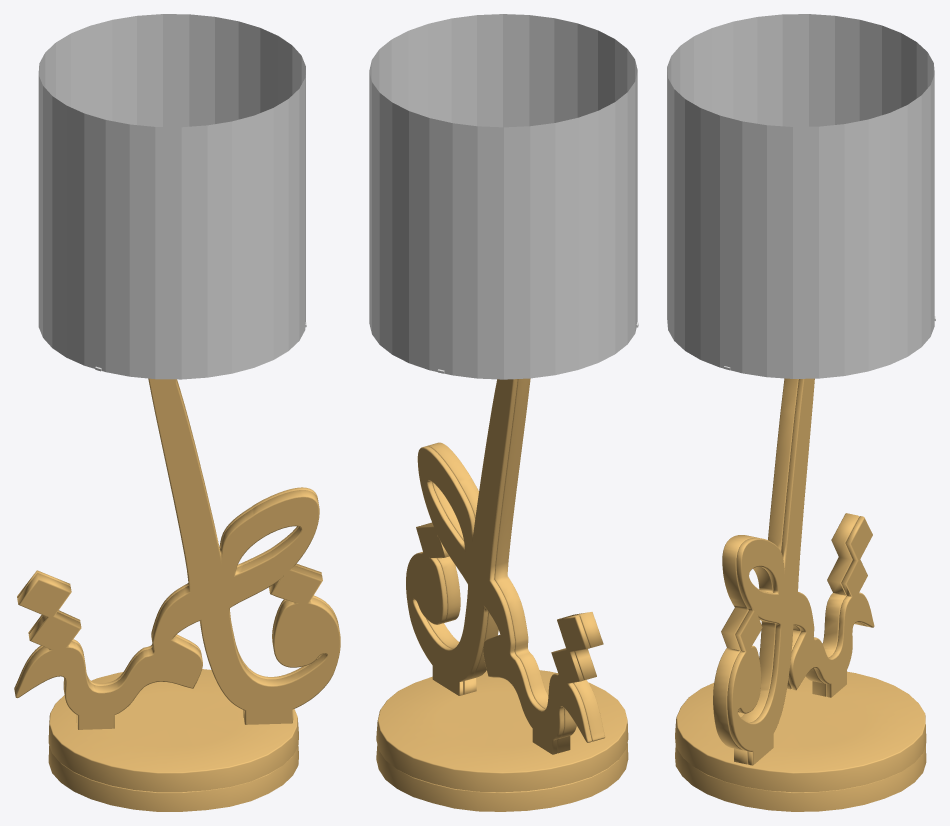
File: FatmaLamp.fbx
3 renders of one model, left to right at view 1: azimuth 30°, elevation 25°; view 2: azimuth 150°, elevation 25°; view 3: azimuth 270°, elevation 25°, orthographic.
Parts seen in each view (by area): view 1: Inside Cover Lamp, Fatma Thick, Base, Fatma Slim; view 2: Inside Cover Lamp, Base, Fatma Slim, Fatma Thick; view 3: Inside Cover Lamp, Base, Fatma Slim, Fatma Thick.
Part boxes in pixels (left/top/right/bottom): Inside Cover Lamp: left=38, top=14, right=305, bottom=379; Fatma Thick: left=14, top=378, right=340, bottom=729; Base: left=48, top=669, right=298, bottom=811; Fatma Slim: left=14, top=380, right=338, bottom=722; Inside Cover Lamp: left=369, top=14, right=637, bottom=379; Base: left=376, top=670, right=628, bottom=811; Fatma Slim: left=406, top=379, right=591, bottom=754; Fatma Thick: left=421, top=378, right=604, bottom=753; Inside Cover Lamp: left=667, top=14, right=934, bottom=378; Base: left=675, top=671, right=926, bottom=811; Fatma Slim: left=727, top=378, right=874, bottom=765; Fatma Thick: left=713, top=378, right=867, bottom=764.
Size of the model in its own units: 188 by 473 by 168.
